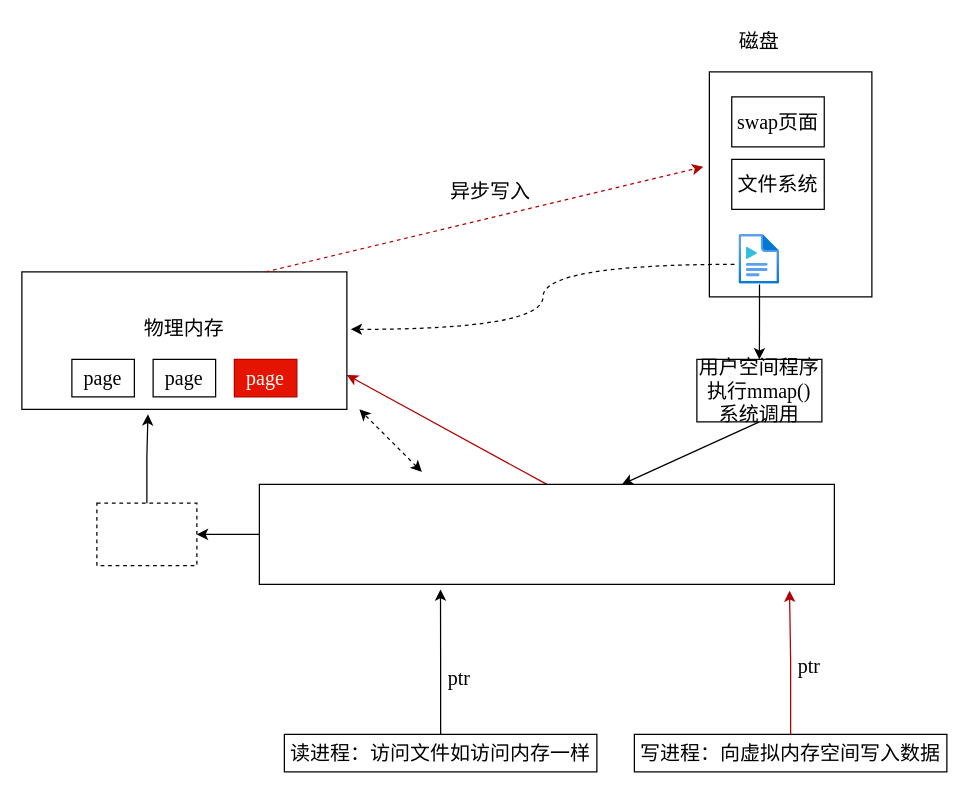
Image size: 969x794. Some labels were removed from this diagram. Each missing label, with the centre of its shape:
MMU: (146,534)
虚拟内存空间（存储文件逻辑地址和物理地址的映射关系）: (546,533)
